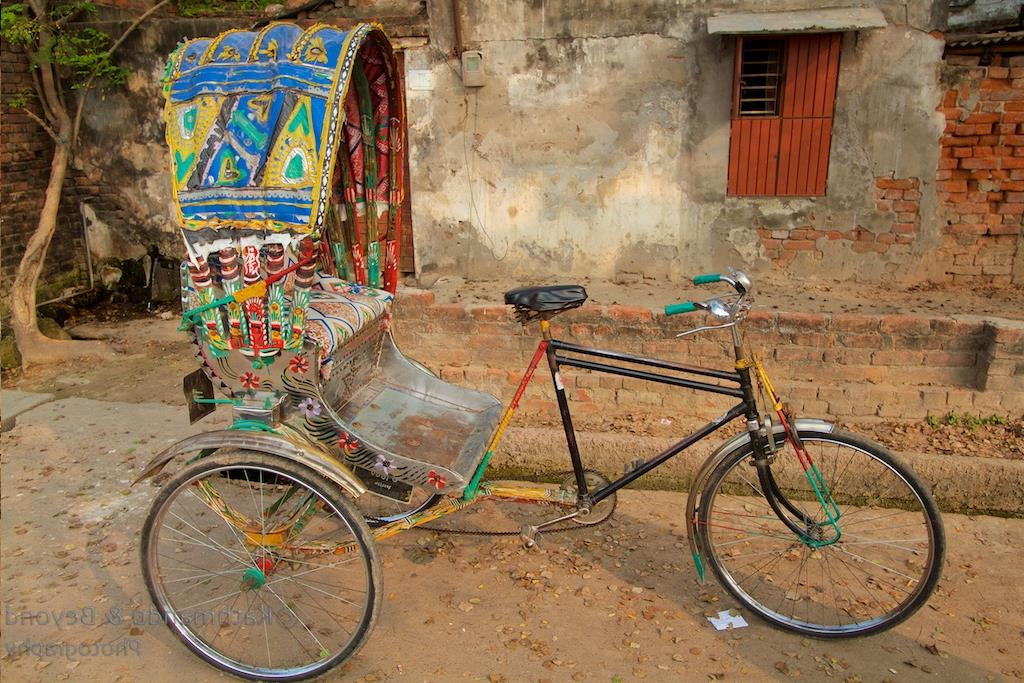Rickshaw: (113, 31, 949, 627)
